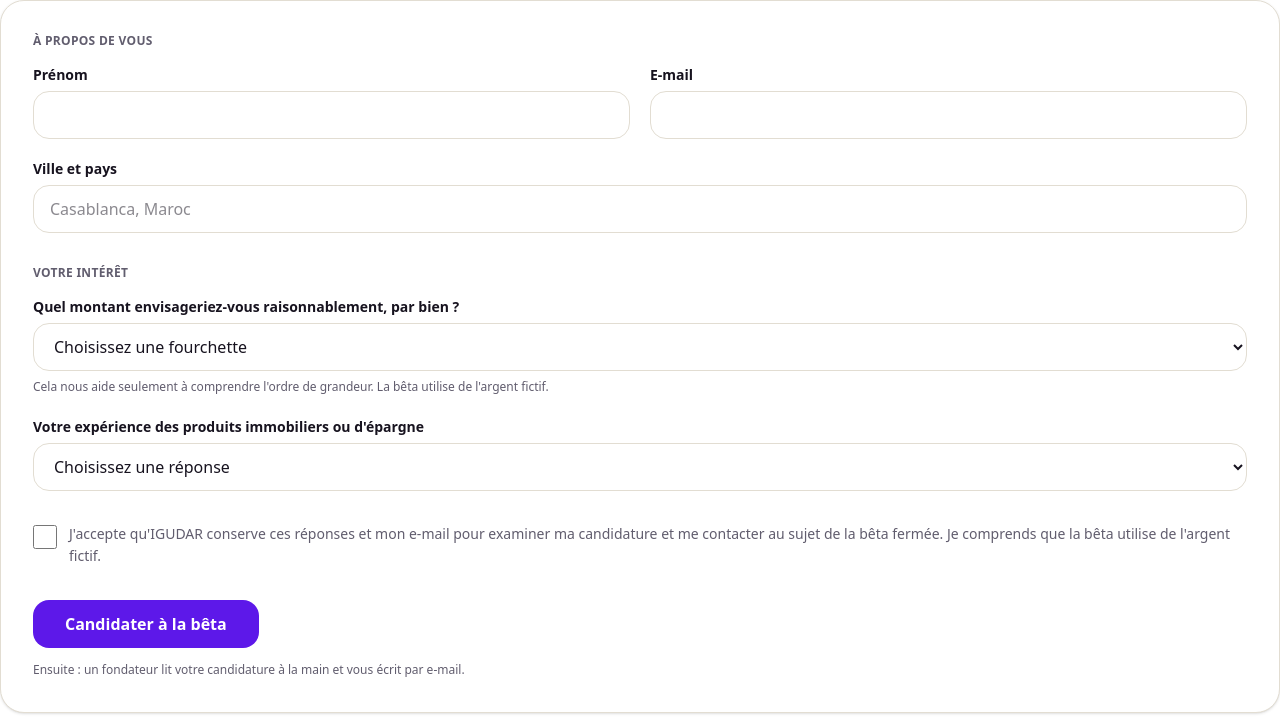
it: BetaApplicationForm › sends the French locale when rendered in French
The image size is (1280, 720).
Type "Salma" into the field labelled "Prénom".
click(332, 115); type("Salma")  # box [33, 91, 630, 139]
Type "salma@example.com" into the field labelled "E-mail".
click(948, 115); type("salma@example.com")  # box [650, 91, 1247, 139]
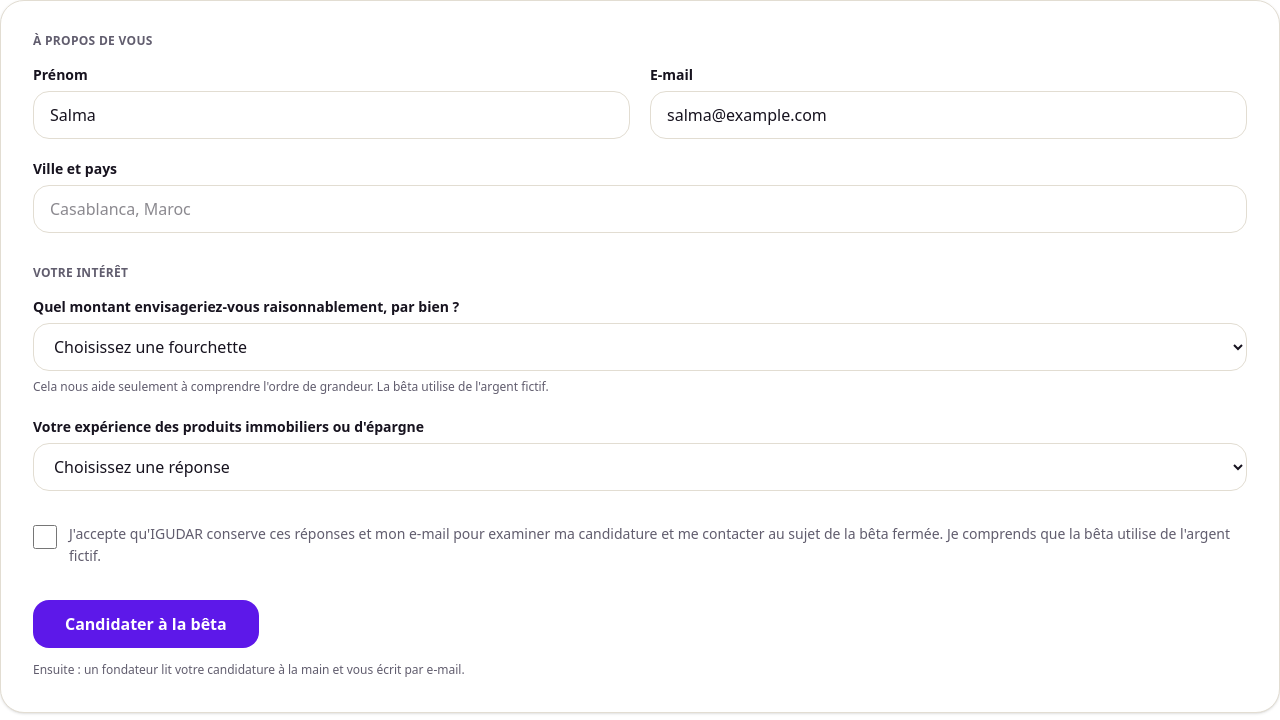
Type "Paris, France" into the field labelled "Ville et pays".
click(640, 209); type("Paris, France")  # box [33, 185, 1247, 233]
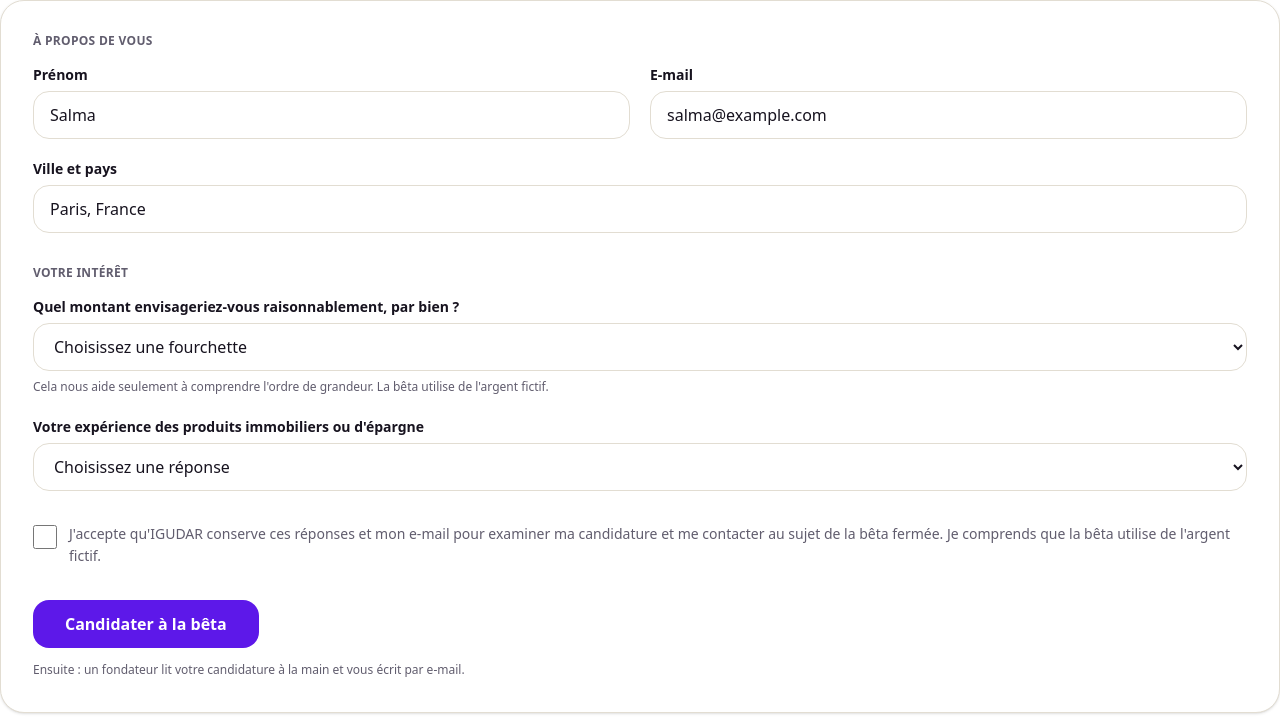
Select "25.000 MAD à 50.000 MAD" in the dropdown labelled "Quel montant envisageriez-vous raisonnablement, par bien ?" at (640, 347), box [33, 323, 1247, 371]
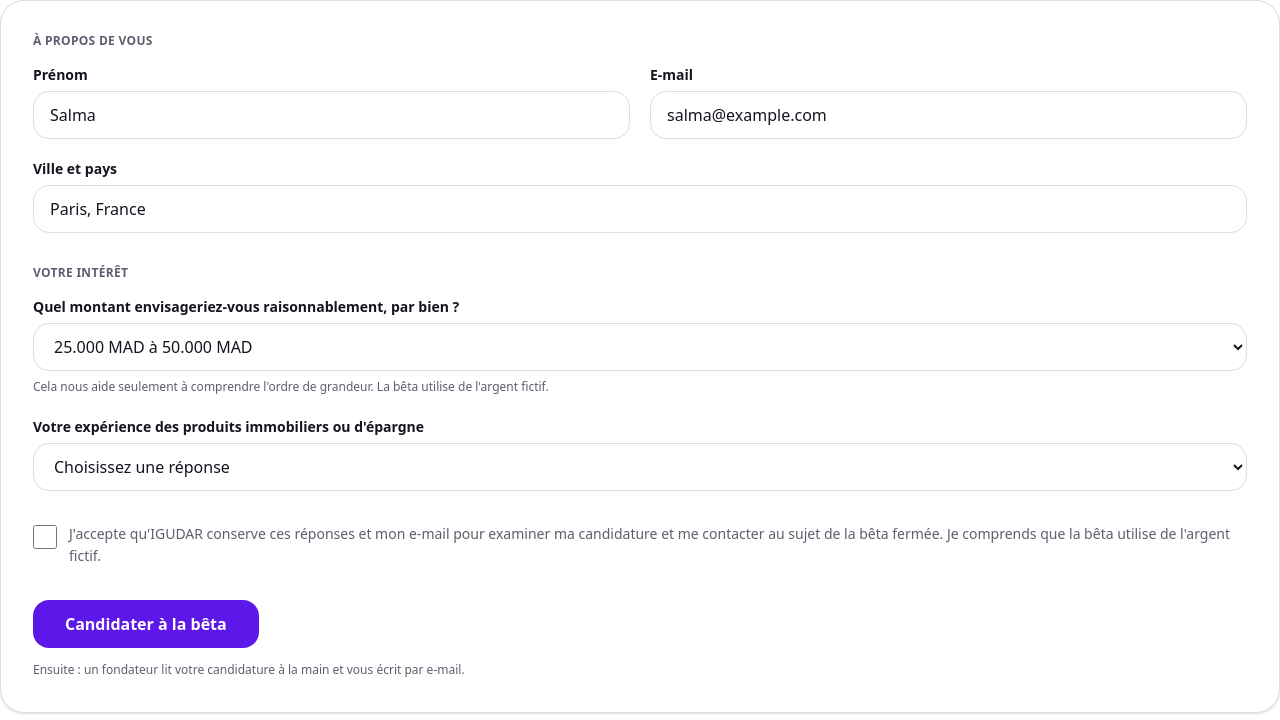
Select "Un peu d'expérience (produits d'épargne, un bien en location ou un premier regar" in the dropdown labelled "Votre expérience des produits immobiliers ou d'épargne" at (640, 466), box [33, 442, 1247, 490]
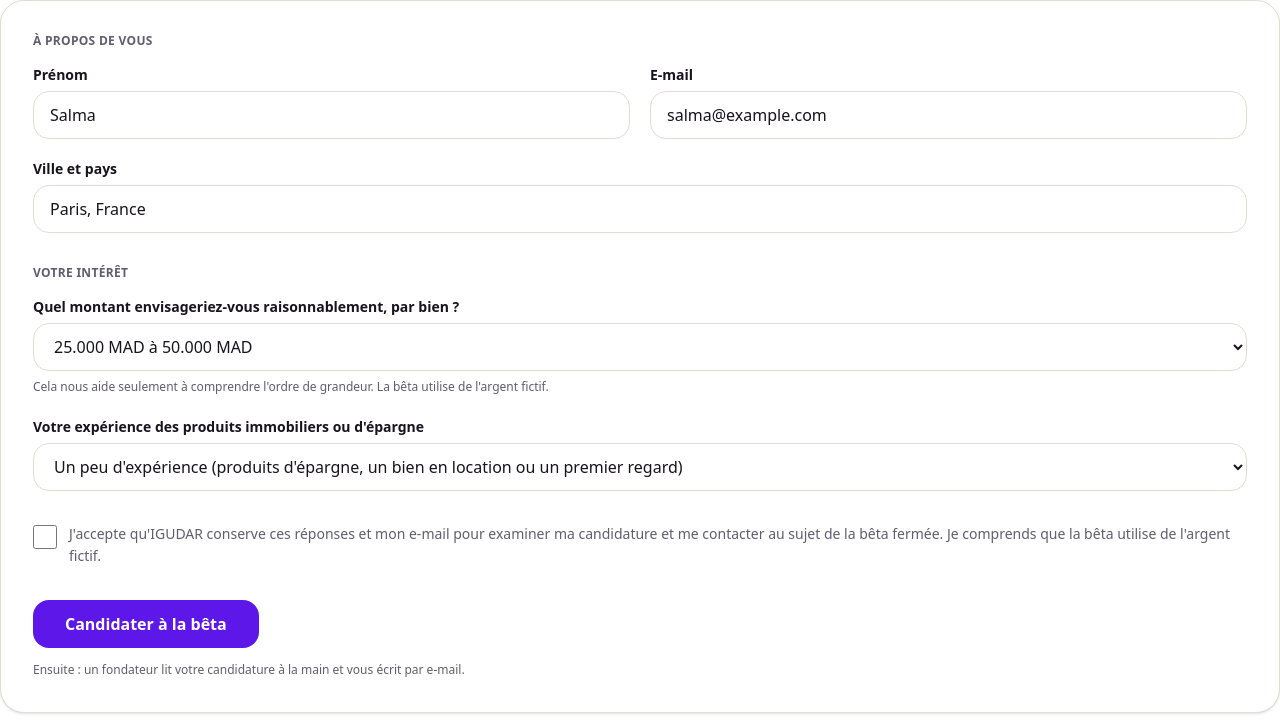
Click the checkbox.
click(45, 536)  # box [33, 524, 57, 548]
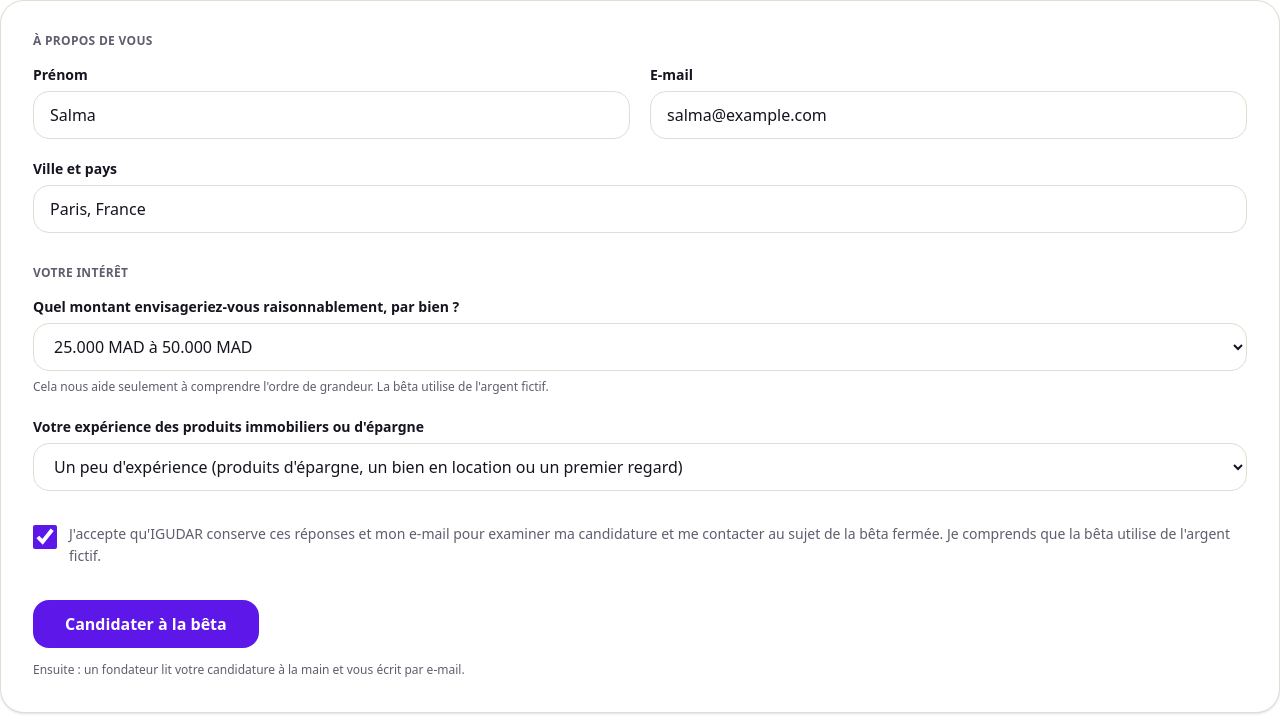
Click the button "Candidater à la bêta".
click(146, 624)  # box [33, 600, 259, 648]
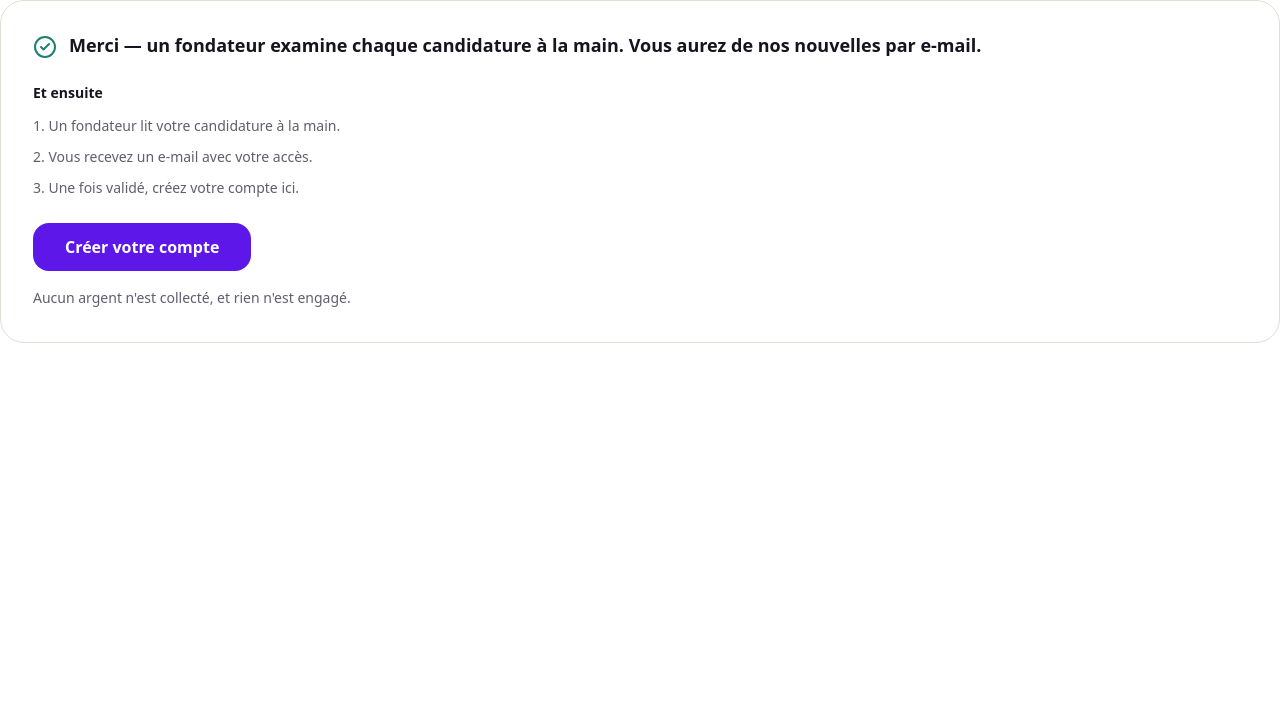
Expected: the text "Merci — un fondateur examine chaque candidature à la main. Vous aurez de nos nouvelles par e-mail." is shown, [69, 33, 982, 57]
